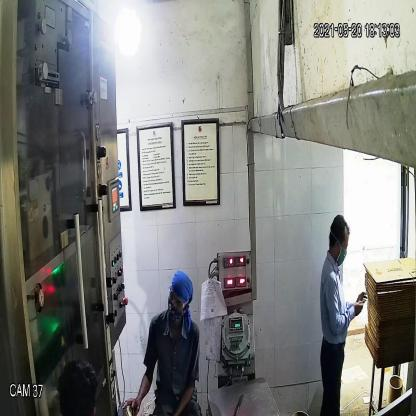goggles: (166, 288, 191, 312)
